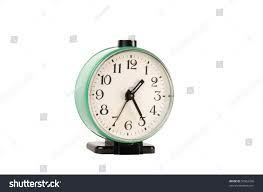alarm_clock: (71, 35, 178, 154), (71, 35, 173, 154)
